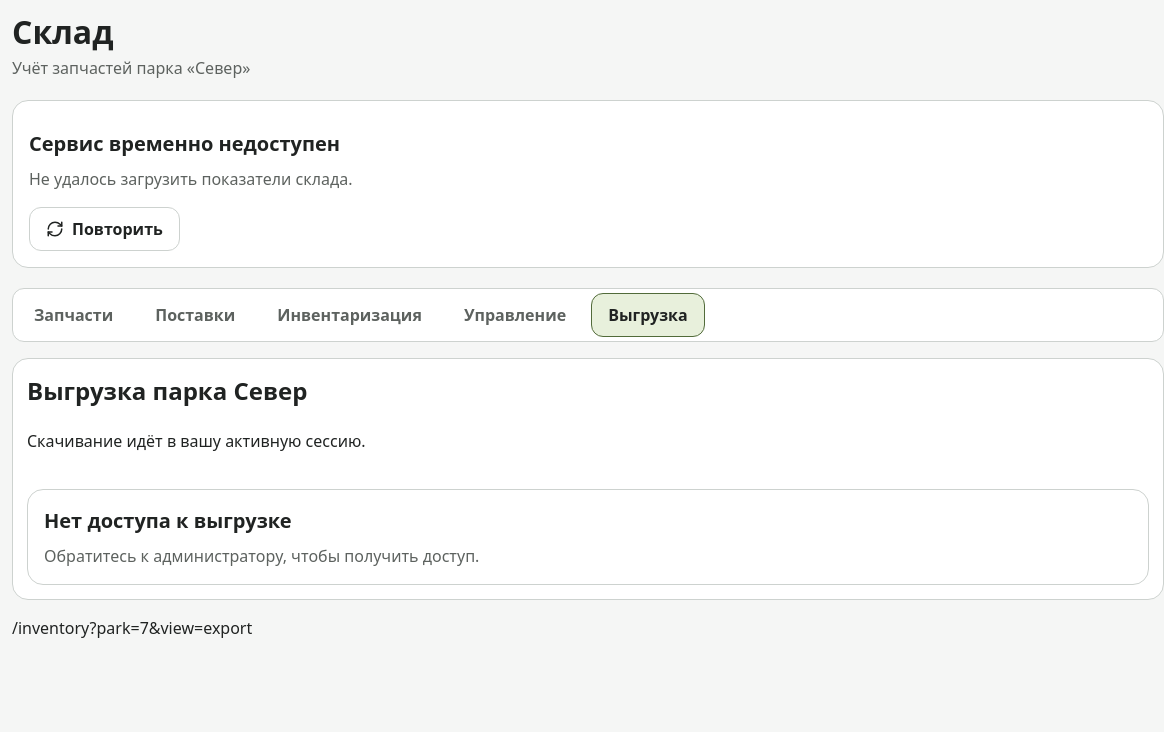
Test: shows the failed KPI request and retries it without blocking the active tab
Check: the message "Сервис временно недоступен Не удалось загрузить показатели склада. Повторить" is shown, box [12, 100, 1163, 268]
Check: the panel shows "Выгрузка парка Север", box [12, 342, 1163, 616]
Click the button "Повторить" at (104, 229), box [29, 207, 180, 251]
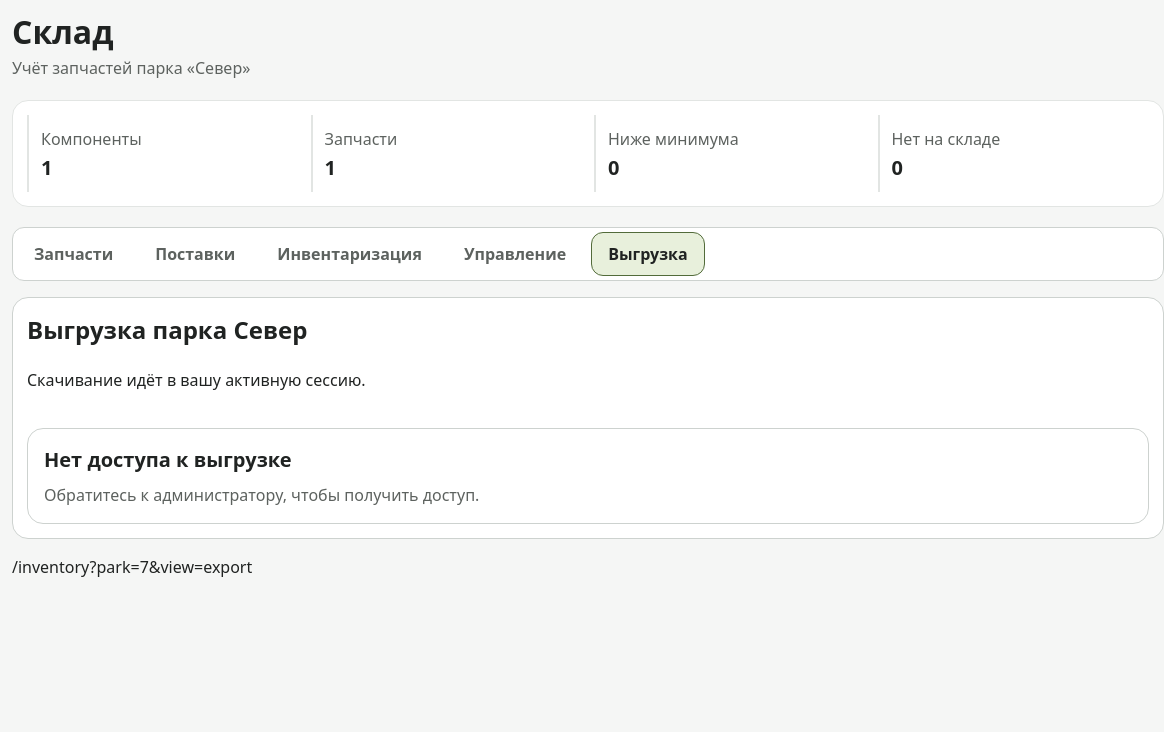
Check: the text "Компоненты" is shown, box [41, 128, 142, 150]
